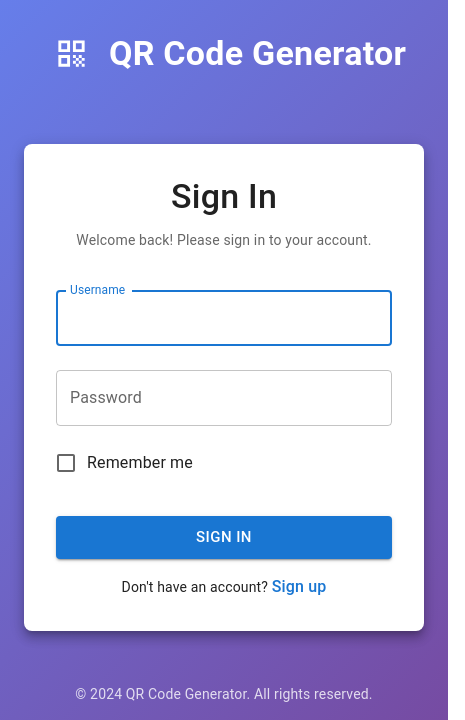
Scenario: LoginForm › validates username format
In the field labelled "Username": (224, 318) [56,290,392,346], type "ab"
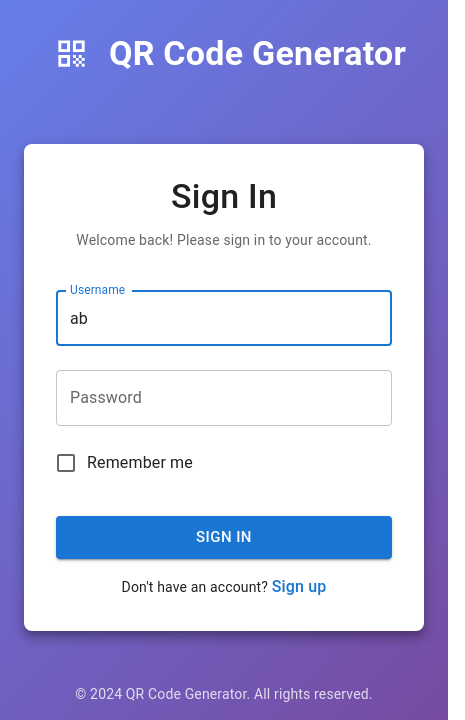
Click the button "Sign In": (224, 537) [56,516,392,559]
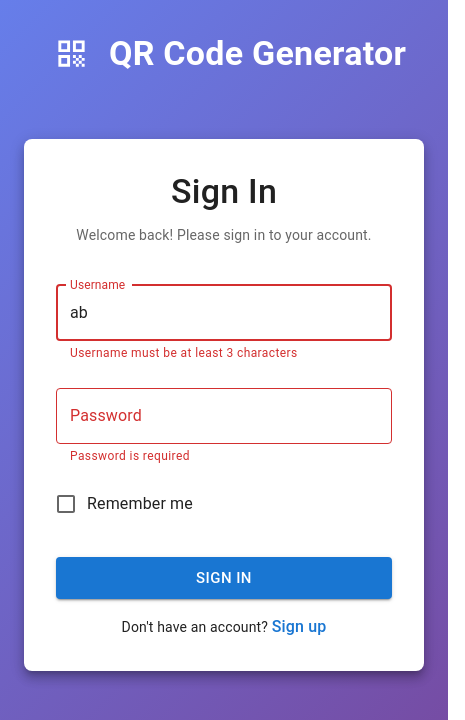
Result: the text "Username must be at least 3 characters" is shown at [70,346,298,360]
